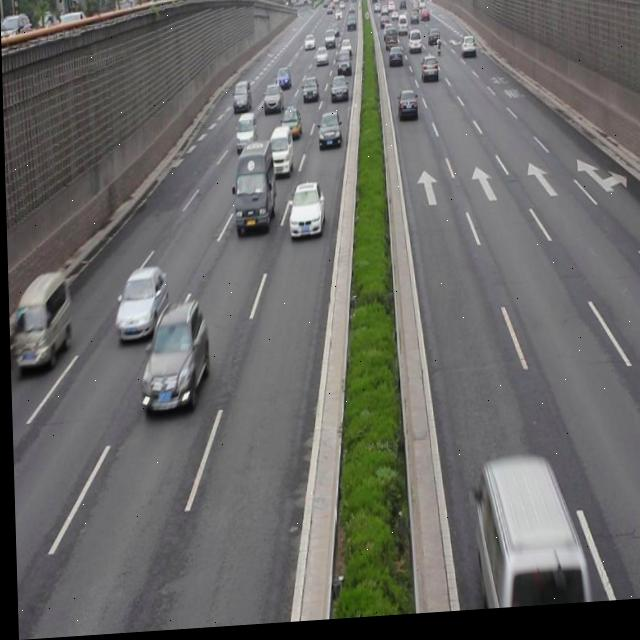car: (137, 302, 207, 413), (113, 265, 167, 345), (287, 185, 324, 245), (316, 114, 340, 155), (279, 108, 300, 144), (231, 81, 251, 117), (262, 85, 283, 118), (396, 93, 416, 126)
truck: (467, 459, 584, 616), (16, 272, 70, 370), (231, 141, 274, 238), (266, 129, 292, 180), (233, 113, 256, 156)
